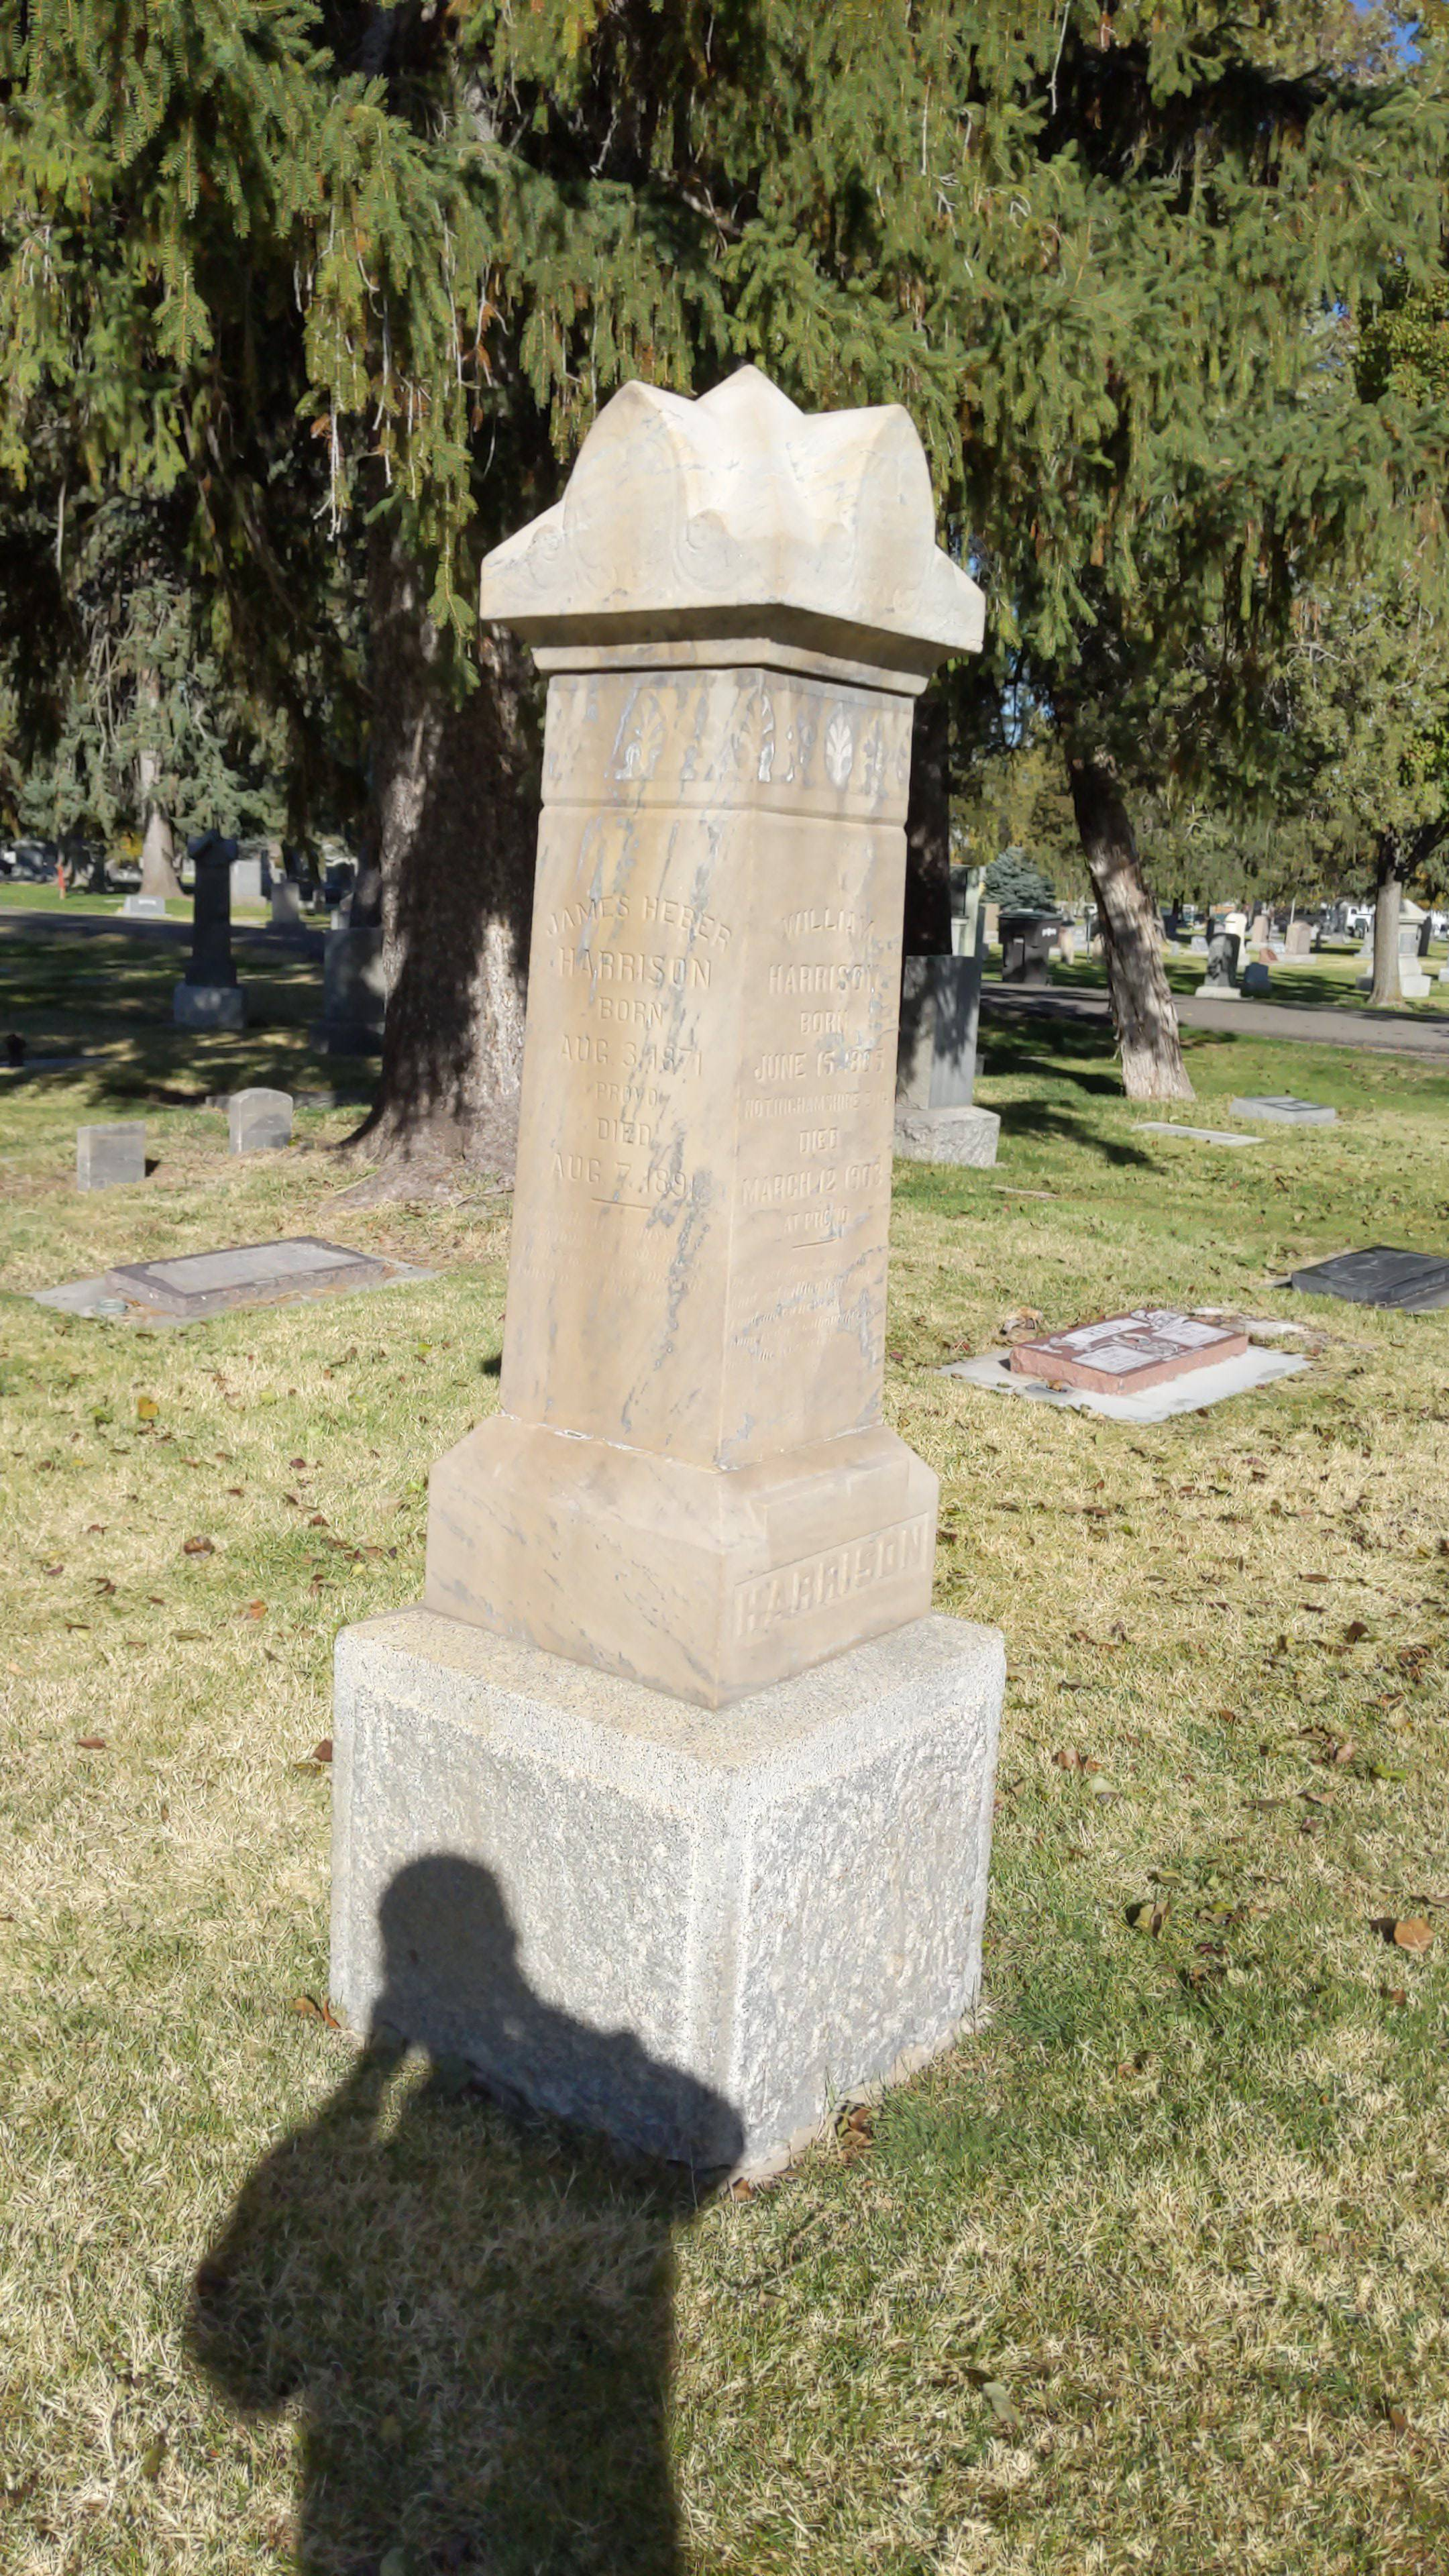obelisk: (481, 361, 977, 1711)
